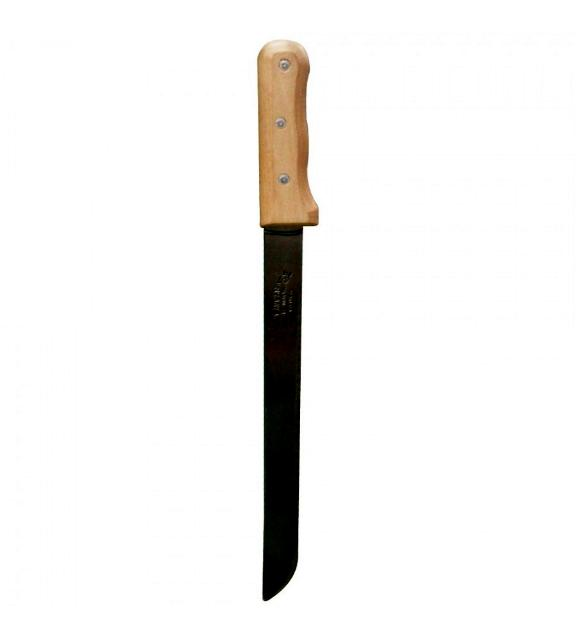long knife: (238, 33, 324, 617)
